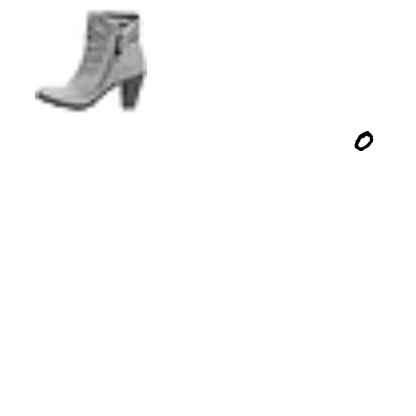0: (349, 126, 377, 154)
Ankle_boot: (35, 7, 147, 119)
